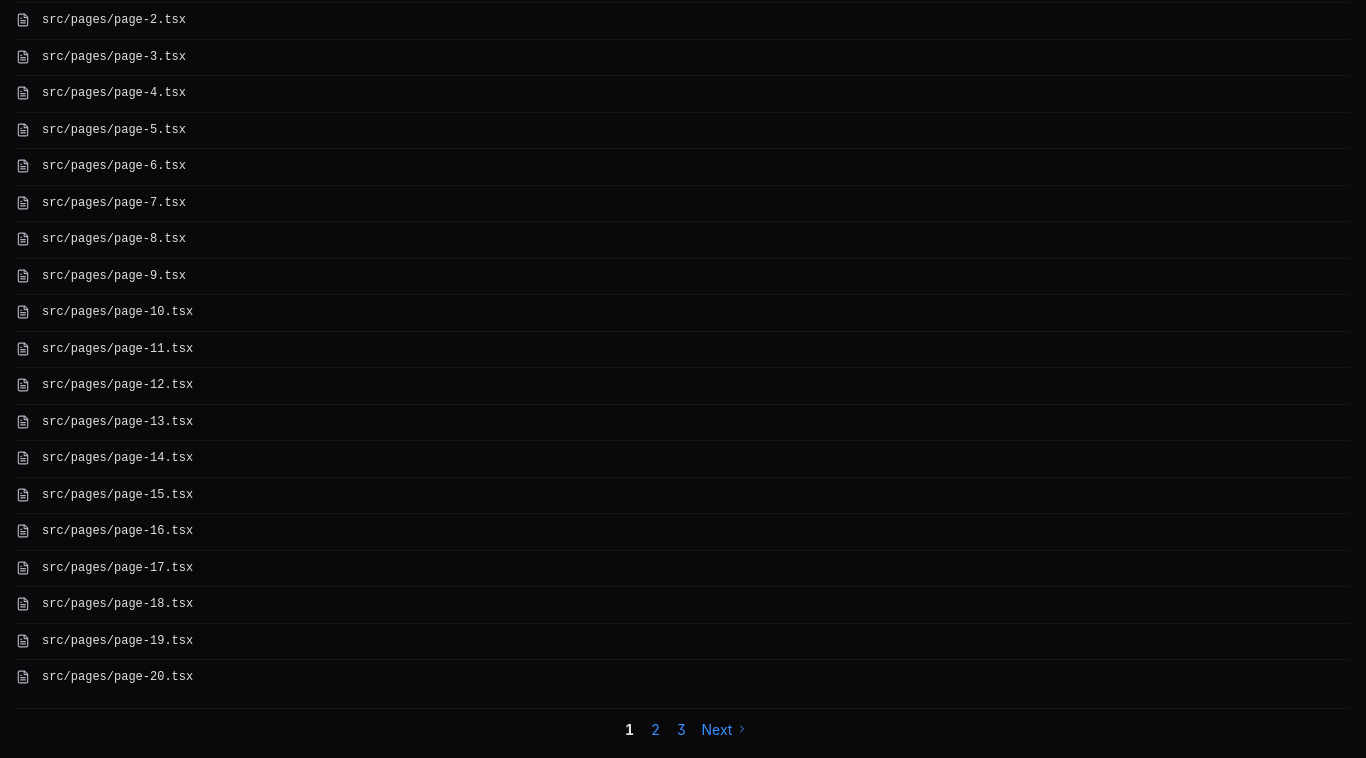
Test: Issue dossier sections › pages the affected files and affected pages independently
(page scrolled)
Click the button with aria-label "Next location page": x=725, y=729 [702, 718, 748, 740]
(page scrolled)
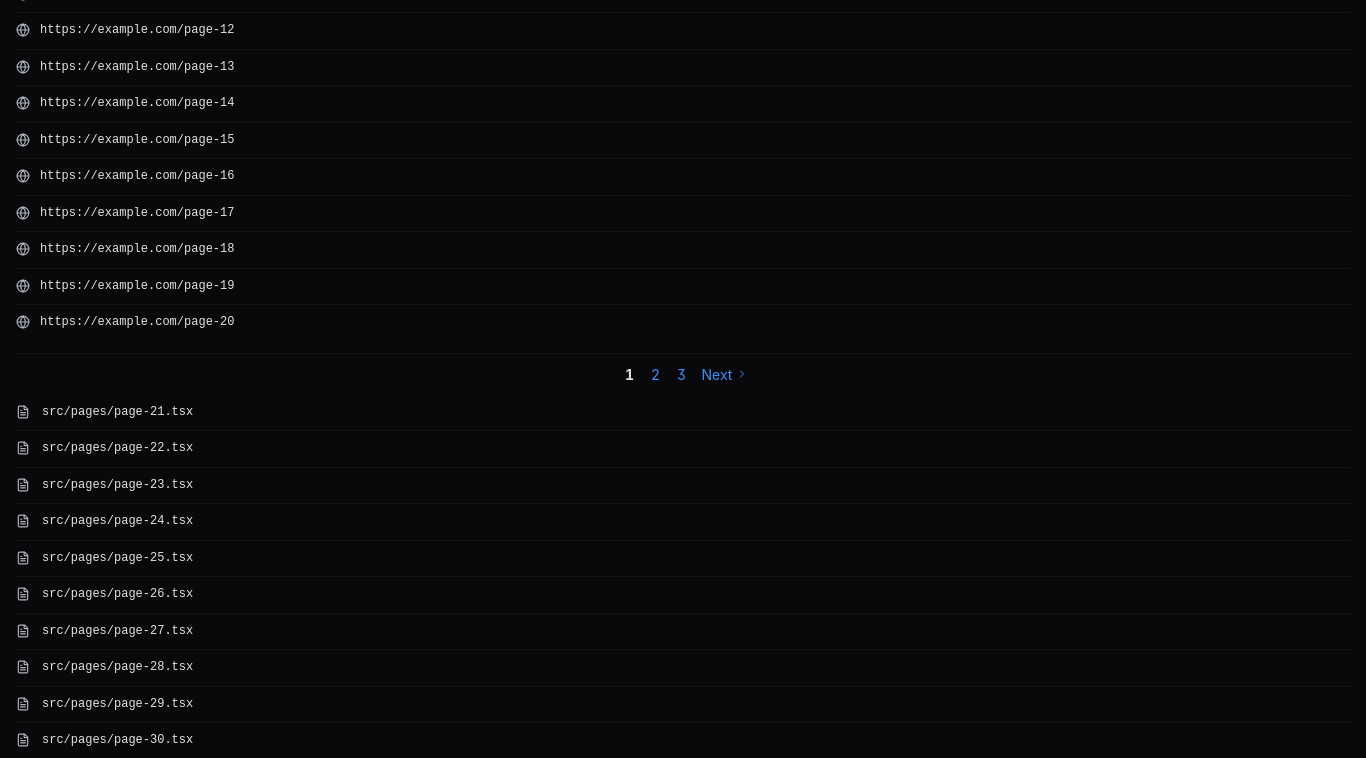
expect the button with aria-label "Next location page" is shown: met, box [702, 364, 748, 384]
expect the text "src/pages/page-21.tsx" is shown: met, box [42, 404, 193, 418]
